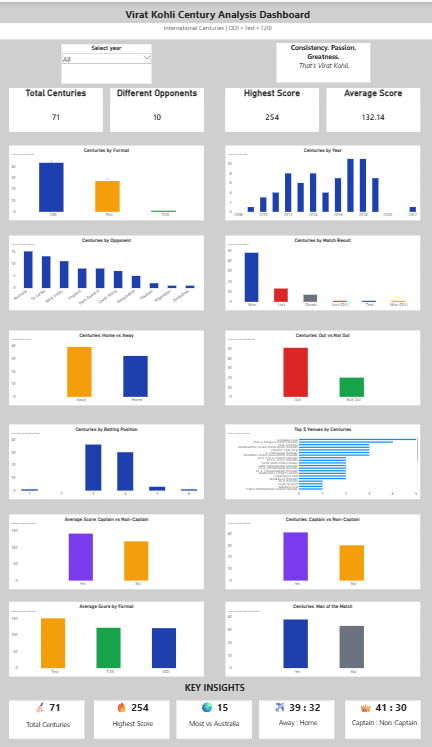

This screenshot's page, from the dashboard's own definition file:
{"tool":"powerbi","page":{"name":"Page 1","canvas":[3500,6000],"ordinal":0},"visuals":[{"type":"clusteredColumnChart","title":"Centuries by Format","fields":{"Category":["Virat_Kohli_Centuries_Final.Format"],"Y":["CountNonNull(Virat_Kohli_Centuries_Final.Score)"]},"box":[76.7,1176.7,1560,600],"z":0},{"type":"cardVisual","title":"Total Centuries","fields":{"Data":["CountNonNull(Virat_Kohli_Centuries_Final.Score)"]},"box":[75,715,750,350],"z":1000},{"type":"cardVisual","title":"Highest Score","fields":{"Data":["Max(Virat_Kohli_Centuries_Final.Score)"]},"box":[1810,715,750,350],"z":2000},{"type":"cardVisual","title":"Average Score","fields":{"Data":["Avg(Virat_Kohli_Centuries_Final.Score)"]},"box":[2620,715,750,350],"z":3000},{"type":"clusteredColumnChart","title":"Centuries by Year ","fields":{"Category":["Virat_Kohli_Centuries_Final.proper_date.Variation.Date Hierarchy.Year"],"Y":["CountNonNull(Virat_Kohli_Centuries_Final.Score)"]},"box":[1810,1175,1560,600],"z":4000},{"type":"clusteredColumnChart","title":"Centuries by Opponent","fields":{"Category":["Virat_Kohli_Centuries_Final.Against"],"Y":["CountNonNull(Virat_Kohli_Centuries_Final.Score)"]},"box":[76.7,1903.3,1560,600],"z":5000},{"type":"clusteredColumnChart","title":"Centuries by Match Result","fields":{"Category":["Virat_Kohli_Centuries_Final.Result"],"Y":["CountNonNull(Virat_Kohli_Centuries_Final.Score)"]},"box":[1810,1903.3,1560,600],"z":6000},{"type":"clusteredColumnChart","title":"Centuries: Home vs Away","fields":{"Category":["Virat_Kohli_Centuries_Final.H/A"],"Y":["CountNonNull(Virat_Kohli_Centuries_Final.Score)"]},"box":[76.7,2660,1560,600],"z":7000},{"type":"clusteredColumnChart","title":"Centuries by Batting Position","fields":{"Category":["Virat_Kohli_Centuries_Final.Batting Order"],"Y":["CountNonNull(Virat_Kohli_Centuries_Final.Score)"]},"box":[76.7,3406.7,1560,600],"z":8000},{"type":"clusteredColumnChart","title":"Centuries: Captain vs Non-Captain","fields":{"Category":["Virat_Kohli_Centuries_Final.Captain"],"Y":["CountNonNull(Virat_Kohli_Centuries_Final.Score)"]},"box":[1810,4126.7,1560,600],"z":9000},{"type":"clusteredBarChart","title":"Top 5 Venues by Centuries","fields":{"Category":["Virat_Kohli_Centuries_Final.Venue"],"Y":["CountNonNull(Virat_Kohli_Centuries_Final.Score)"]},"box":[1810,3406.7,1560,600],"z":10000},{"type":"clusteredColumnChart","title":"Centuries: Out vs Not Out","fields":{"Category":["Virat_Kohli_Centuries_Final.Out/Not Out"],"Y":["CountNonNull(Virat_Kohli_Centuries_Final.Score)"]},"box":[1810,2660,1560,600],"z":11000},{"type":"clusteredColumnChart","title":"Centuries: Man of the Match","fields":{"Category":["Virat_Kohli_Centuries_Final.Man of the Match"],"Y":["CountNonNull(Virat_Kohli_Centuries_Final.Score)"]},"box":[1810,4833.3,1560,600],"z":12000},{"type":"clusteredColumnChart","title":"Average Score by Format","fields":{"Category":["Virat_Kohli_Centuries_Final.Format"],"Y":["Avg(Virat_Kohli_Centuries_Final.Score)"]},"box":[76.7,4833.3,1560,600],"z":13000},{"type":"clusteredColumnChart","title":"Average Score: Captain vs Non-Captain","fields":{"Category":["Virat_Kohli_Centuries_Final.Captain"],"Y":["Avg(Virat_Kohli_Centuries_Final.Score)"]},"box":[76.7,4126.7,1560,600],"z":14000},{"type":"textbox","box":[0,0,3500,230],"z":15000},{"type":"cardVisual","title":"Different Opponents","fields":{"Data":["Count(Virat_Kohli_Centuries_Final.Against)"]},"box":[885,715,750,350],"z":16000},{"type":"slicer","title":"Select year","fields":{"Values":["Virat_Kohli_Centuries_Final.proper_date.Variation.Date Hierarchy.Year"]},"box":[495,365,720,315],"z":17000},{"type":"textbox","box":[76.7,5473.3,3293.3,453.3],"z":18000},{"type":"textbox","box":[76.7,5620,603,306.7],"z":19000},{"type":"textbox","box":[756.7,5620,603,306.7],"z":20000},{"type":"textbox","box":[1420,5620,603,306.7],"z":21000},{"type":"textbox","box":[2083.3,5620,603,306.7],"z":22000},{"type":"textbox","box":[2766.7,5620,603.3,306.7],"z":23000},{"type":"textbox","box":[2215,360,750,315],"z":24000},{"type":"textbox","box":[0,195,3500,130],"z":25000}]}

Visuals, with their boxes in screenshot pixels (x1, y1, x2, y2), scaled from the page's 3500x6000 canvas onto the 432x747 screenshot:
"Centuries by Format" clusteredColumnChart: 9/146/202/221
"Total Centuries" cardVisual: 9/89/102/133
"Highest Score" cardVisual: 223/89/316/133
"Average Score" cardVisual: 323/89/416/133
"Centuries by Year " clusteredColumnChart: 223/146/416/221
"Centuries by Opponent" clusteredColumnChart: 9/237/202/312
"Centuries by Match Result" clusteredColumnChart: 223/237/416/312
"Centuries: Home vs Away" clusteredColumnChart: 9/331/202/406
"Centuries by Batting Position" clusteredColumnChart: 9/424/202/499
"Centuries: Captain vs Non-Captain" clusteredColumnChart: 223/514/416/588
"Top 5 Venues by Centuries" clusteredBarChart: 223/424/416/499
"Centuries: Out vs Not Out" clusteredColumnChart: 223/331/416/406
"Centuries: Man of the Match" clusteredColumnChart: 223/602/416/676
"Average Score by Format" clusteredColumnChart: 9/602/202/676
"Average Score: Captain vs Non-Captain" clusteredColumnChart: 9/514/202/588
textbox: 0/0/431/29
"Different Opponents" cardVisual: 109/89/202/133
"Select year" slicer: 61/45/150/85
textbox: 9/681/416/738
textbox: 9/700/84/738
textbox: 93/700/168/738
textbox: 175/700/250/738
textbox: 257/700/332/738
textbox: 341/700/416/738
textbox: 273/45/366/84
textbox: 0/24/431/40
